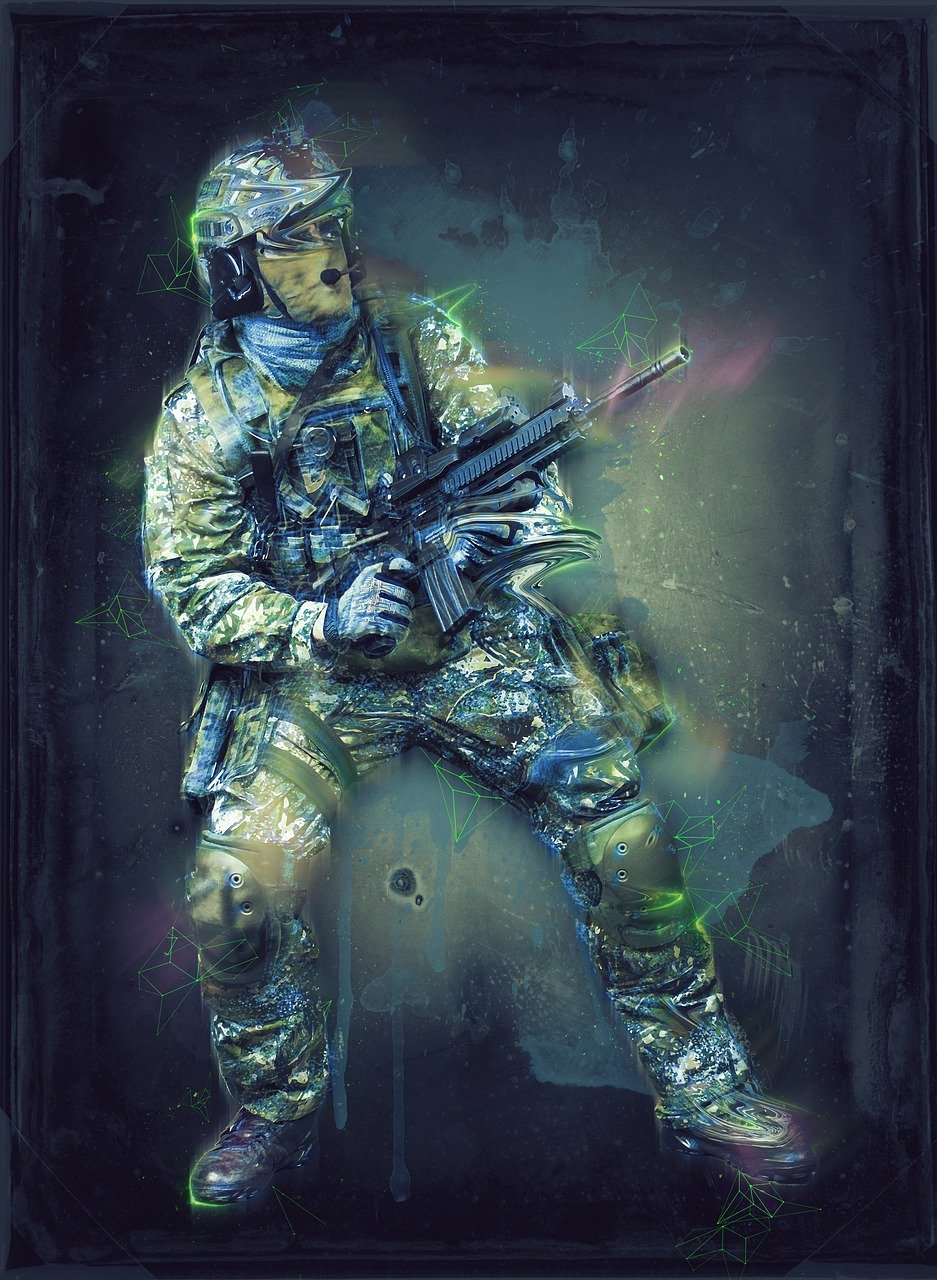gun: (283, 339, 697, 661)
